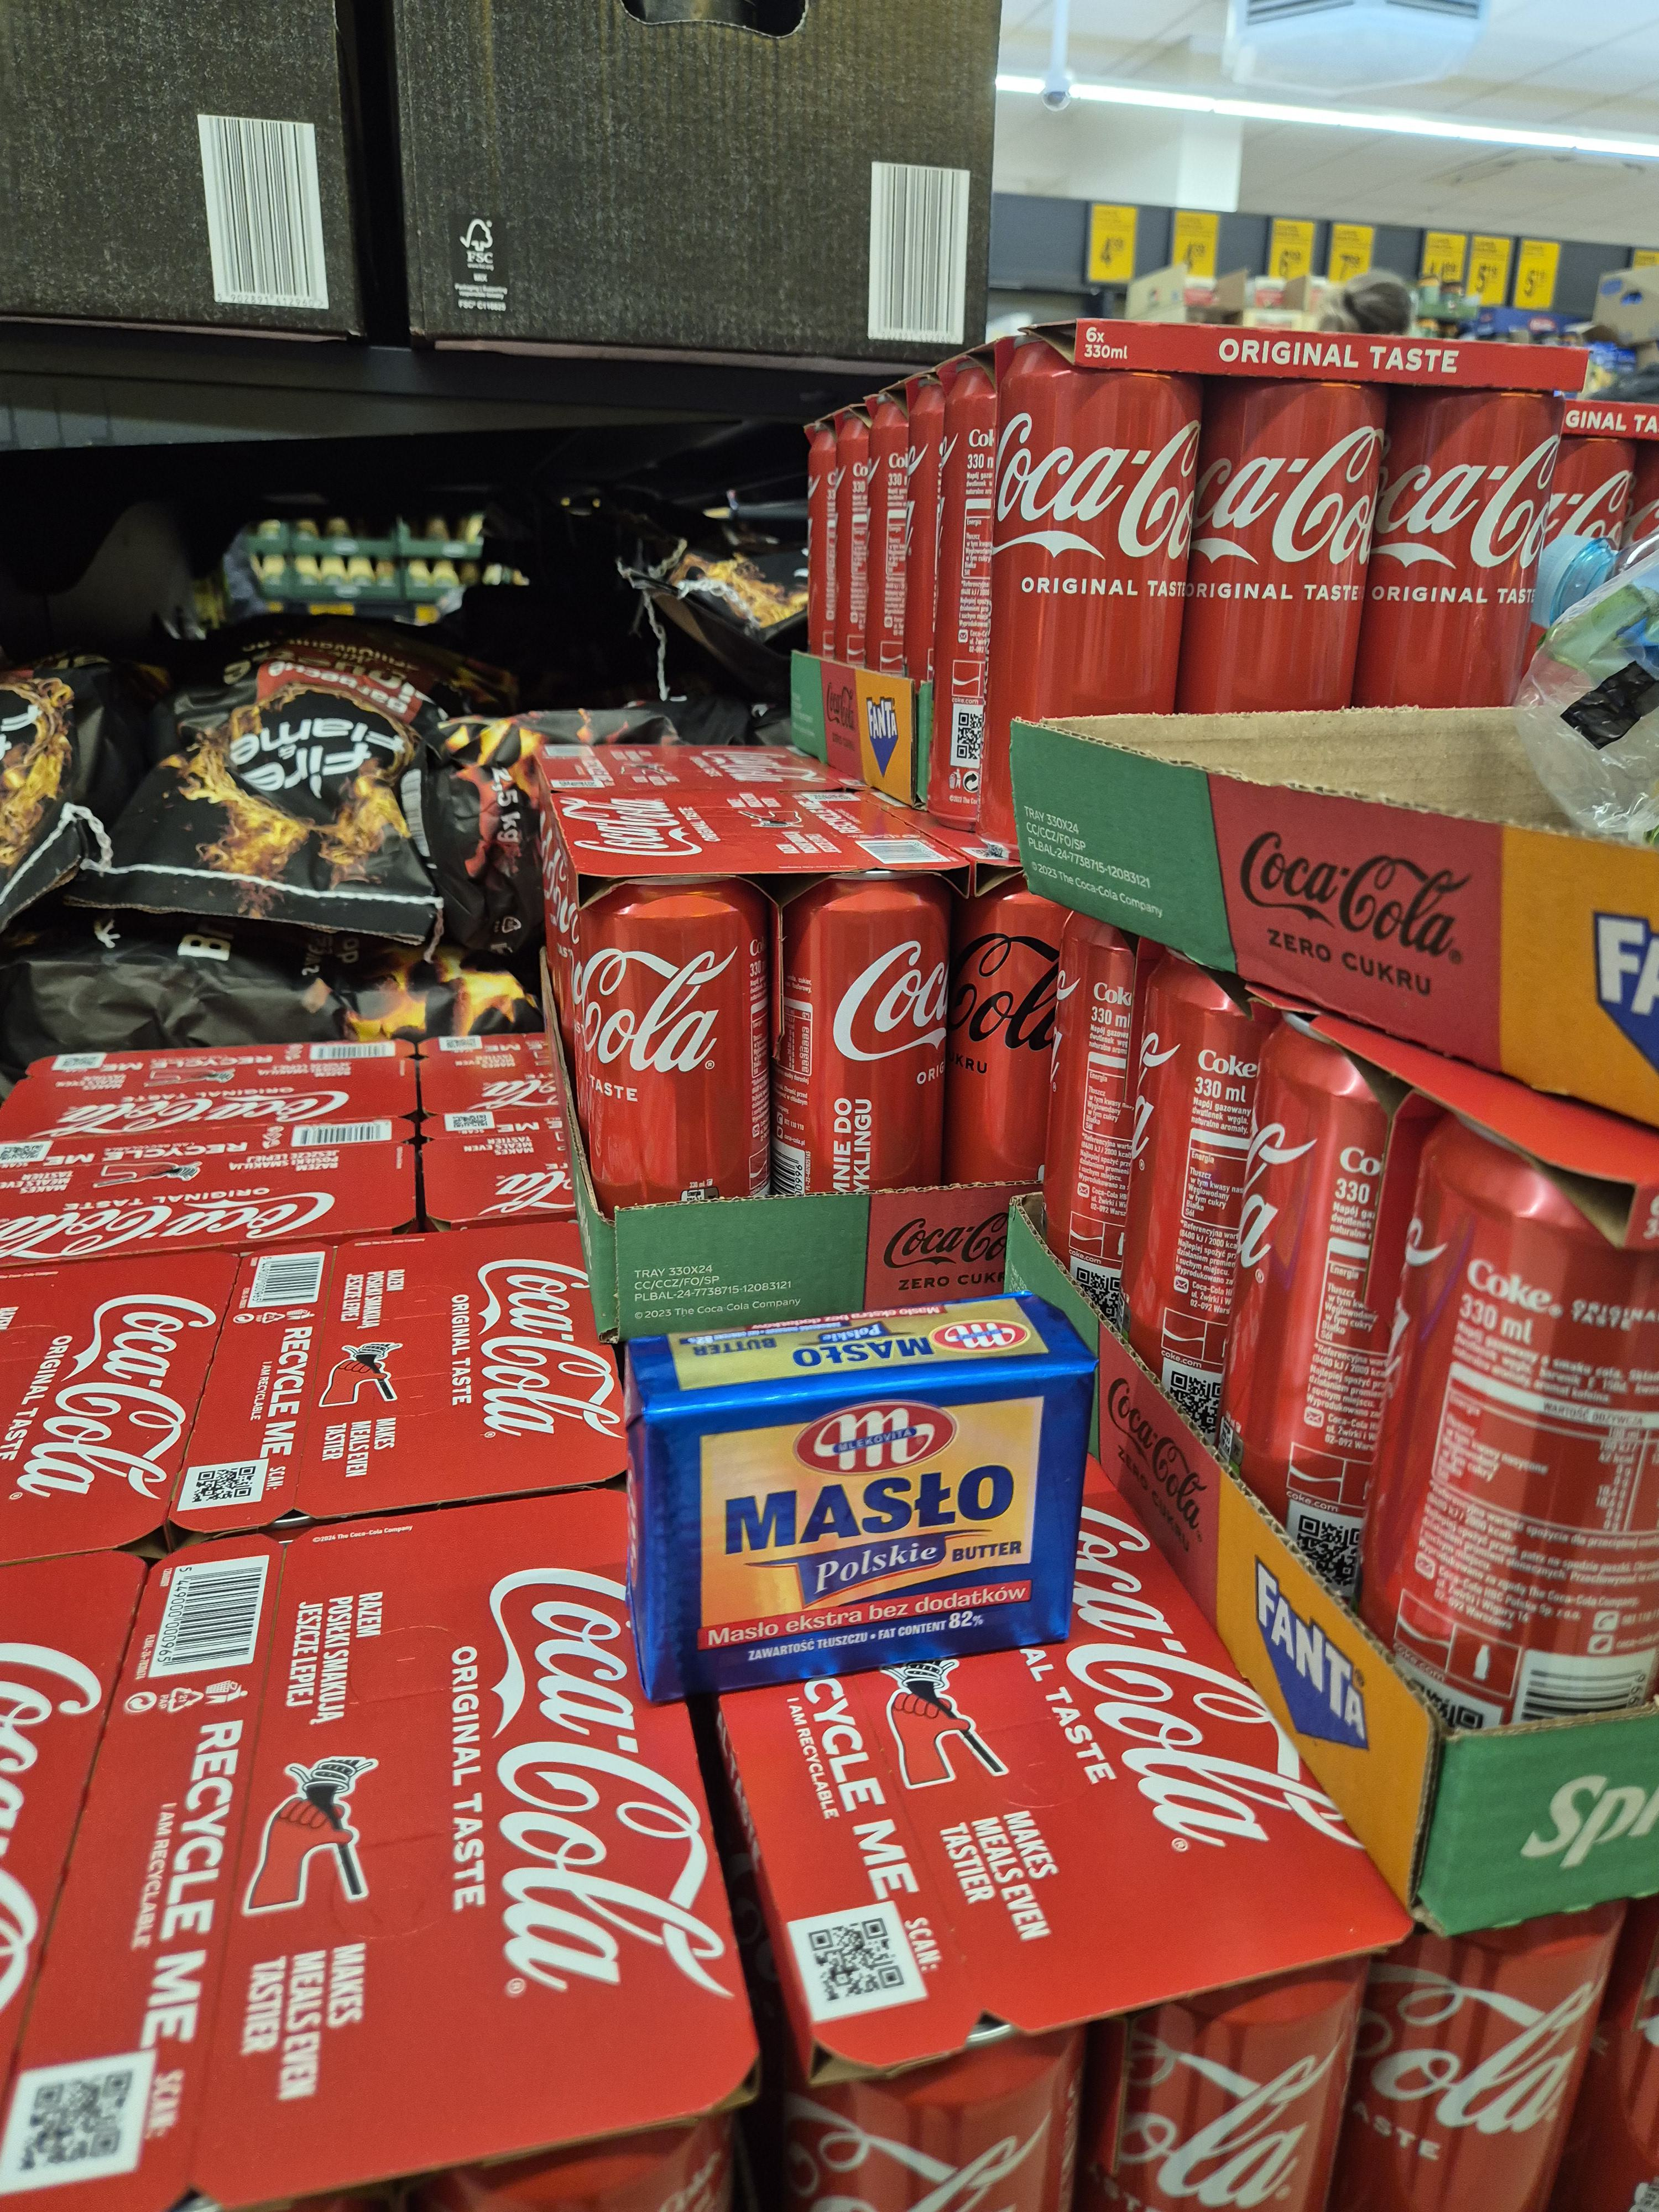Butter: (613, 1299, 1110, 1688)
